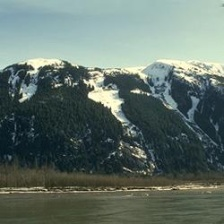neutral: (2, 4, 224, 223)
